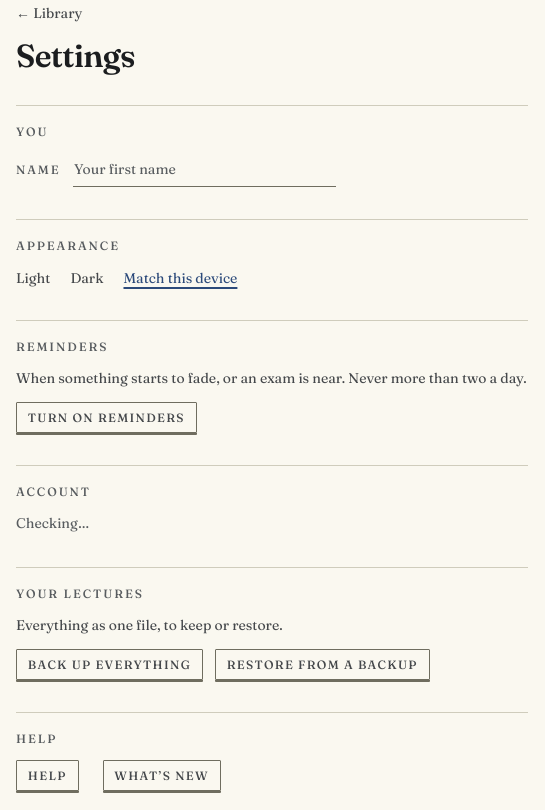
Test: Settings (the owner, 2026-11-25: one place for everything set once) › sets light, dark or the device’s own, one at a time
The width and height of the screenshot is (545, 810).
Later steps or results of the test are not shown.
Click the radio button labelled "Dark": [87, 278] box [70,268,104,288]
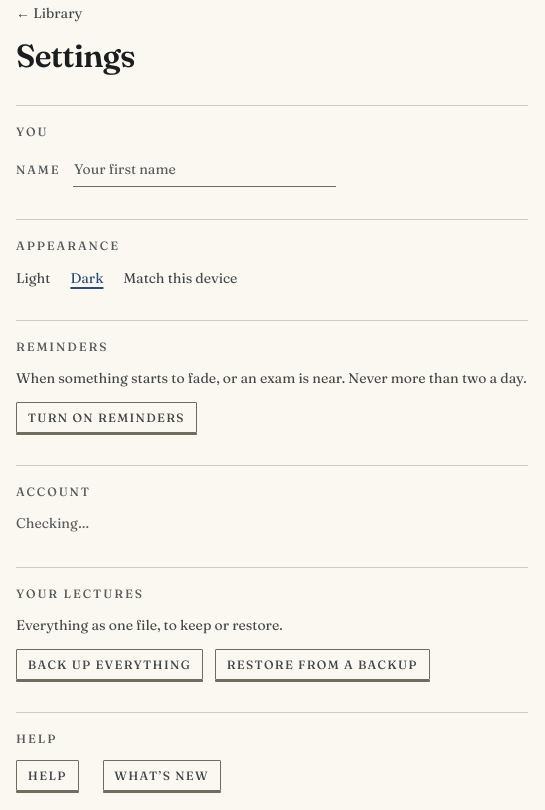
Expected: the radio button labelled "Dark" is checked, [70,268,104,288]
